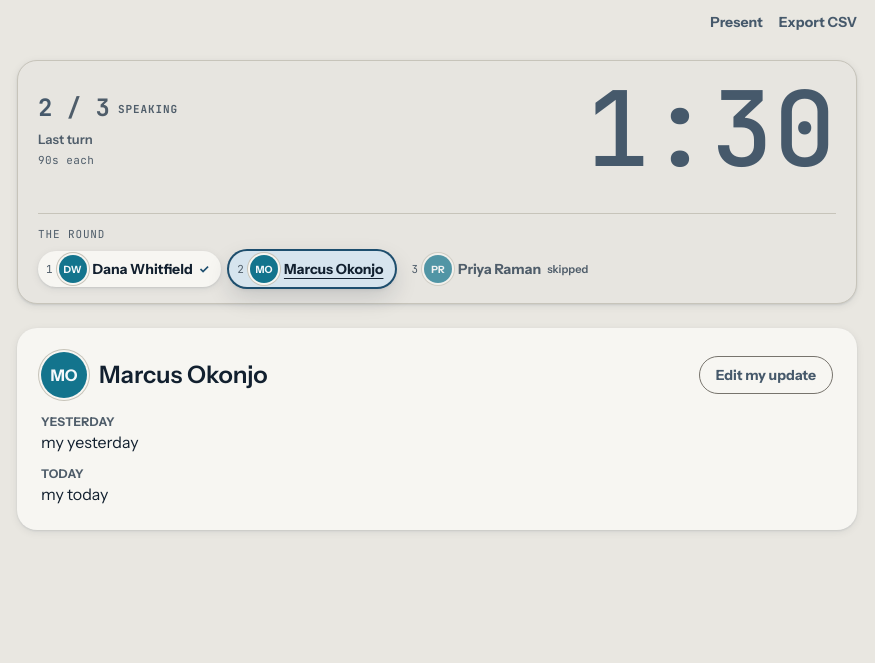
Test case: StandupRoom re-reading entries › leaves the edit form bound to the viewer when someone else is picked
The image size is (875, 663).
Click the button "Edit my update" at (766, 375), box x1=699 y1=356 x2=833 y2=394
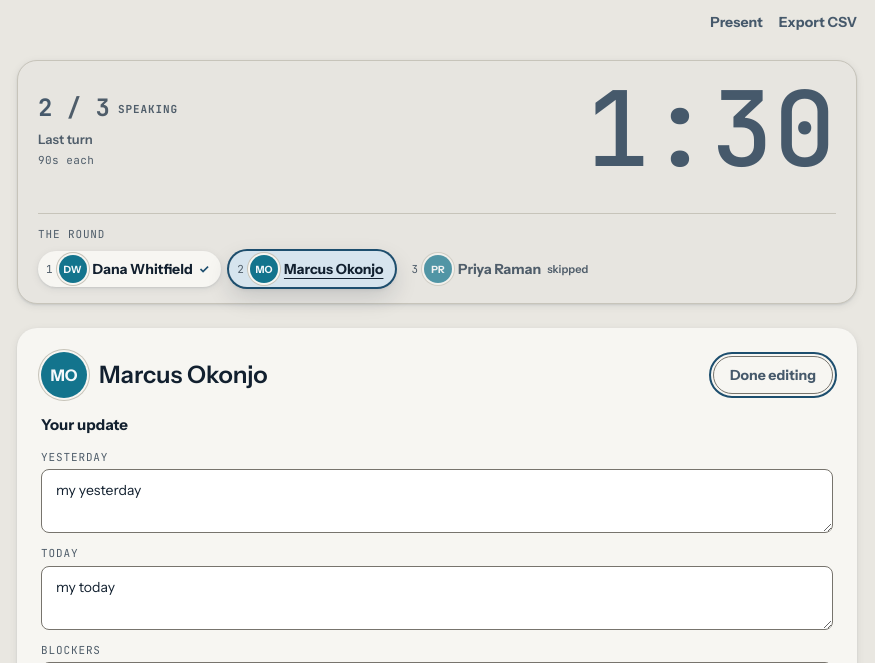
Expected: the text box labelled "yesterday" holds "my yesterday", x1=41 y1=469 x2=833 y2=533
Click the button "3 PR Priya Raman skipped" at (502, 269), box x1=403 y1=250 x2=600 y2=287
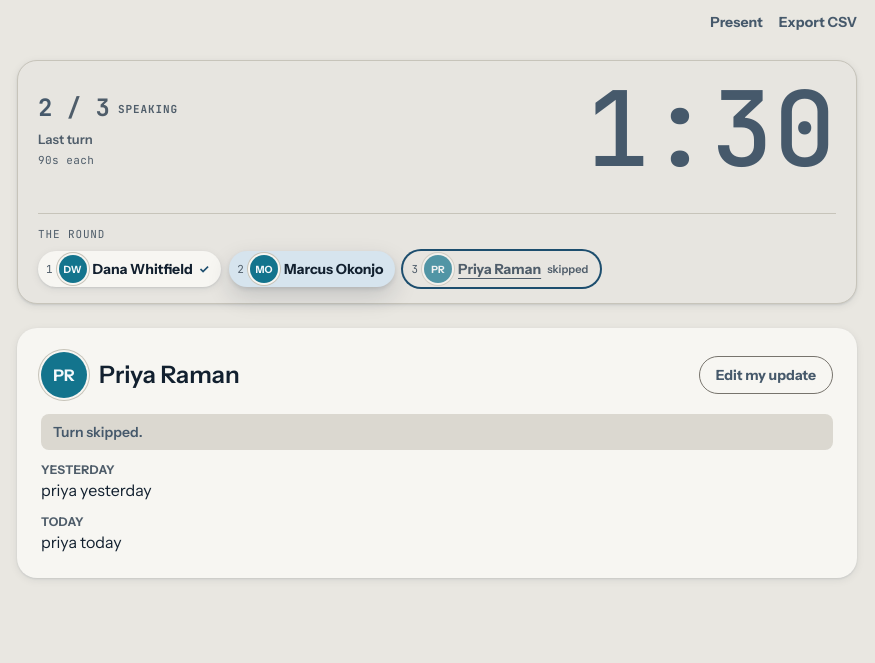
Expected: the text "priya yesterday" is shown, x1=41 y1=480 x2=152 y2=500
Click the button "2 MO Marcus Okonjo" at (312, 269), box x1=229 y1=250 x2=395 y2=287
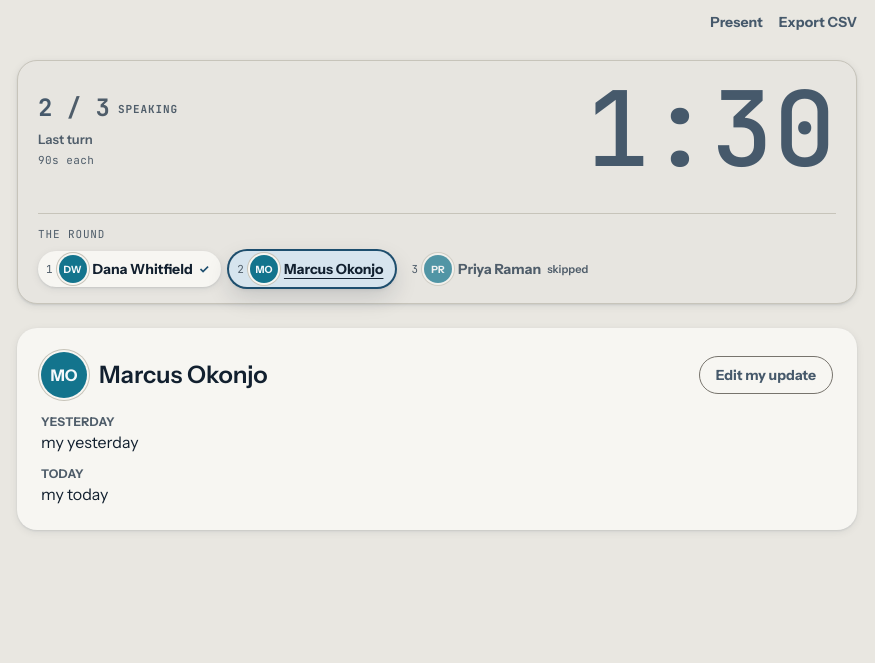
Click the button "Edit my update" at (766, 375), box x1=699 y1=356 x2=833 y2=394
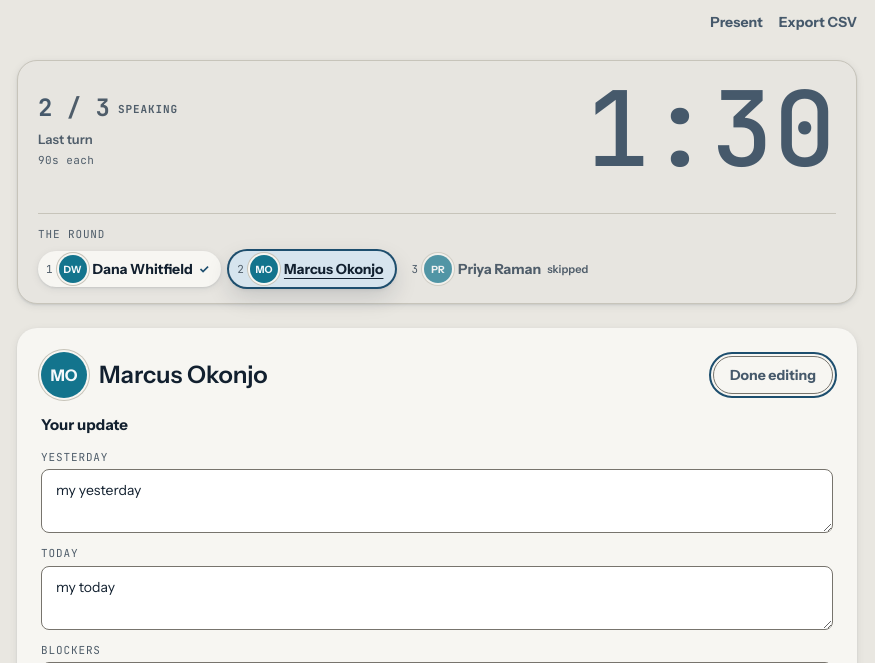
Expected: the text box labelled "yesterday" holds "my yesterday", x1=41 y1=469 x2=833 y2=533
